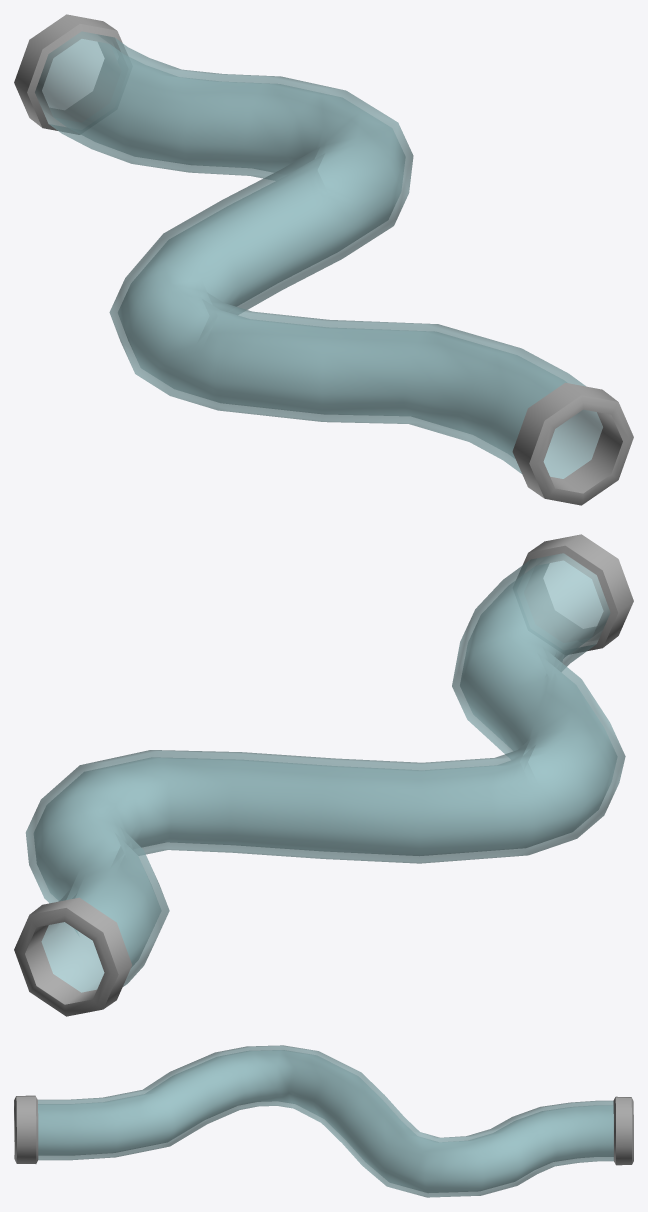
3 renders of one model, top to bottom at view 1: azimuth 30°, elevation 25°; view 2: azimuth 150°, elevation 25°; view 3: azimuth 270°, elevation 25°, orthographic. The views are drawn at different scales.
Visible parts, largest first — view 1: tube; view 2: tube; view 3: tube.
Boxes of the visible parts, left/top/right/bottom form: tube: left=14, top=14, right=633, bottom=505; tube: left=14, top=534, right=633, bottom=1016; tube: left=14, top=1045, right=633, bottom=1197.
Size of the model in its own units: 2044 by 531 by 4512.
